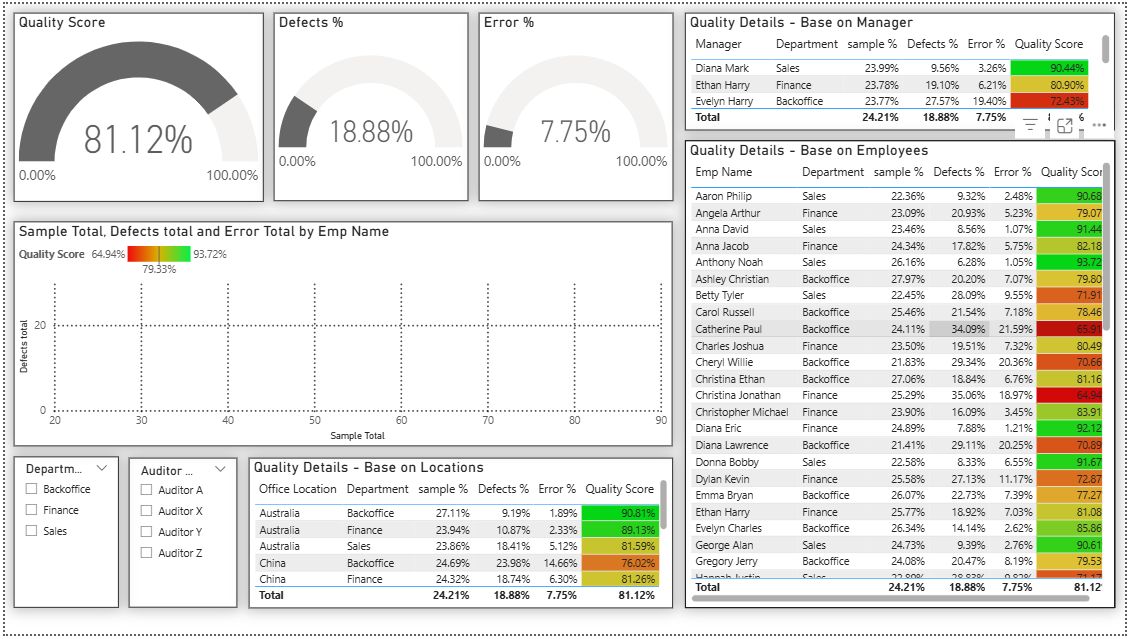

This screenshot's page, from the dashboard's own definition file:
{"tool":"powerbi","page":{"name":"Details","canvas":[1280,720],"ordinal":1},"visuals":[{"type":"gauge","fields":{"Y":["All_Measures.Quality Score"]},"box":[10,10,285.7,215.7],"z":0},{"type":"slicer","fields":{"Values":["Dim_Auditor.Auditor Name"]},"box":[141.4,518.6,124.3,171.4],"z":1000},{"type":"slicer","fields":{"Values":["Dim_Department.Department"]},"box":[10,517.1,120,172.9],"z":2000},{"type":"gauge","fields":{"Y":["All_Measures.Defects %"]},"box":[307.8,10,222.2,215.6],"z":3000},{"type":"gauge","fields":{"Y":["All_Measures.Error %"]},"box":[541.1,10,222.2,215.6],"z":4000},{"type":"tableEx","title":"Quality Details - Base on Manager","fields":{"Values":["Dim_Manager.Manager","Dim_Department.Department","All_Measures.sample %","All_Measures.Defects %","All_Measures.Error %","All_Measures.Quality Score"]},"box":[777.1,10,491.4,134.3],"z":5000},{"type":"tableEx","title":"Quality Details - Base on Employees","fields":{"Values":["Dim_Employee.Emp Name","Dim_Department.Department","All_Measures.sample %","All_Measures.Defects %","All_Measures.Error %","All_Measures.Quality Score"]},"box":[776.7,155.6,492.2,534.4],"z":6000},{"type":"tableEx","title":"Quality Details - Base on Locations","fields":{"Values":["Dim_Employee.Office Location","Dim_Department.Department","All_Measures.sample %","All_Measures.Defects %","All_Measures.Error %","All_Measures.Quality Score"]},"box":[279.1,518.2,484.5,171.8],"z":7000},{"type":"scatterChart","fields":{"Y":["All_Measures.Defects_total"],"X":["All_Measures.Sample_Total"],"Size":["All_Measures.Error_Total"],"Category":["Dim_Employee.Emp Name"]},"box":[10,248.6,752.9,257.1],"z":8000}]}

Visuals, with their boxes in screenshot pixels (x1, y1, x2, y2), scaled from the page's 1280x720 canvas onto the 1131x639 screenshot:
gauge - All_Measures.Quality Score: 9, 9, 261, 200
slicer - Dim_Auditor.Auditor Name: 125, 460, 235, 612
slicer - Dim_Department.Department: 9, 459, 115, 612
gauge - All_Measures.Defects %: 272, 9, 468, 200
gauge - All_Measures.Error %: 478, 9, 674, 200
"Quality Details - Base on Manager" tableEx: 687, 9, 1121, 128
"Quality Details - Base on Employees" tableEx: 686, 138, 1121, 612
"Quality Details - Base on Locations" tableEx: 247, 460, 675, 612
scatterChart - All_Measures.Defects_total x All_Measures.Sample_Total: 9, 221, 674, 449
